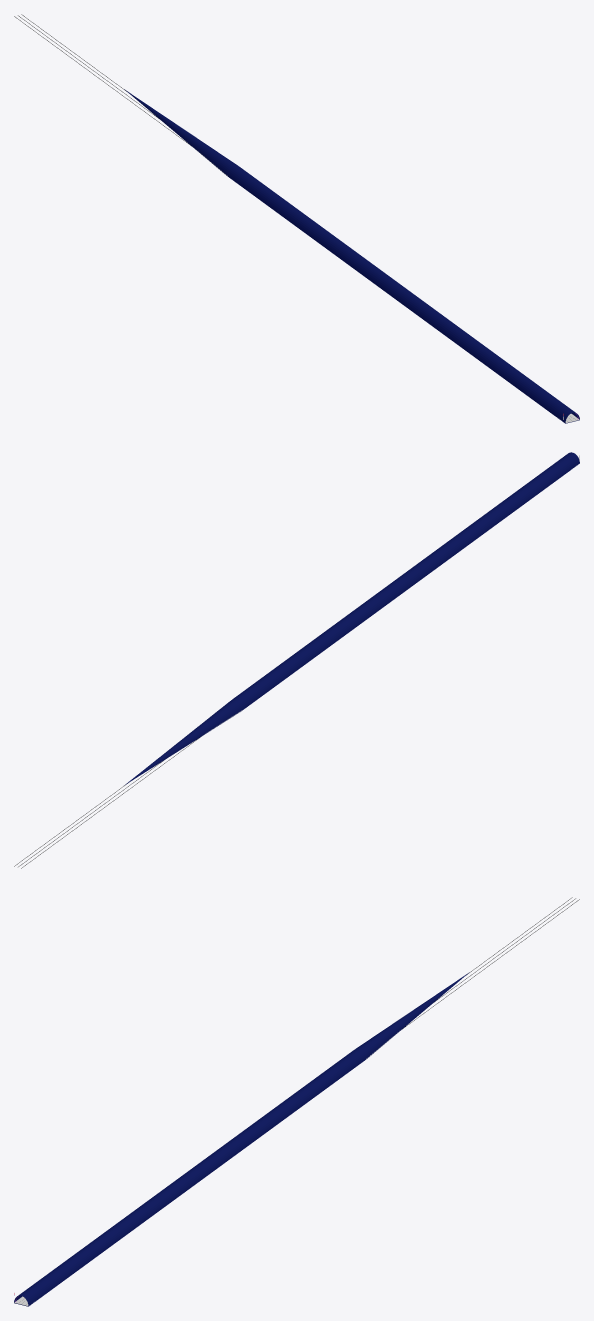
The model's file is 音ゲー2Blender.fbx.
3 views of the same model, one above another, from view 1: azimuth 30°, elevation 25°; view 2: azimuth 150°, elevation 25°; view 3: azimuth 330°, elevation 25° (orthographic).
Parts seen in each view (by area): view 1: トンネル; view 2: トンネル; view 3: トンネル.
Part boxes in pixels (x1=…): トンネル: x1=124, y1=89, x2=579, y2=423; トンネル: x1=125, y1=452, x2=579, y2=784; トンネル: x1=14, y1=972, x2=469, y2=1306.
Bounding box in the file's own units: 977 × 561 × 60121.
